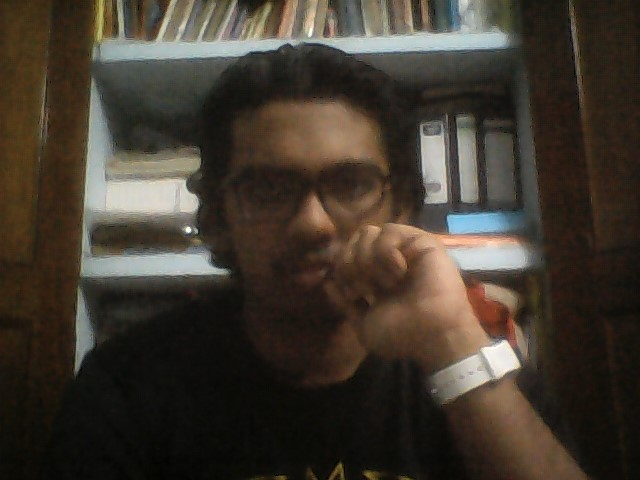person: (100, 43, 566, 480)
smartwatch: (409, 331, 530, 418)
